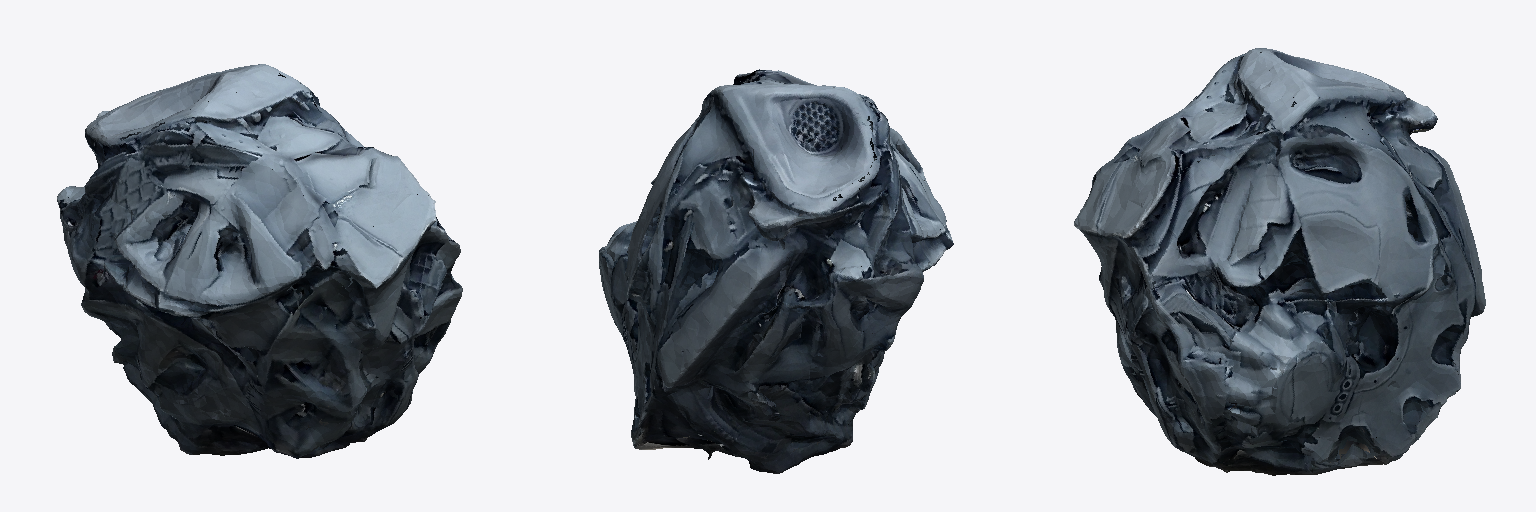
3 views of the same model, side by side, from view 1: azimuth 30°, elevation 25°; view 2: azimuth 150°, elevation 25°; view 3: azimuth 270°, elevation 25° (orthographic).
Parts seen in each view (by area): view 1: mesh; view 2: mesh; view 3: mesh.
Boxes of the visible parts, <box> form: mesh: <box>57,64,462,458</box>; mesh: <box>599,69,953,473</box>; mesh: <box>1074,48,1485,475</box>.
Bounding box in the file's own units: 2.04 × 2.04 × 2.14.
1 materials, 1 textured.